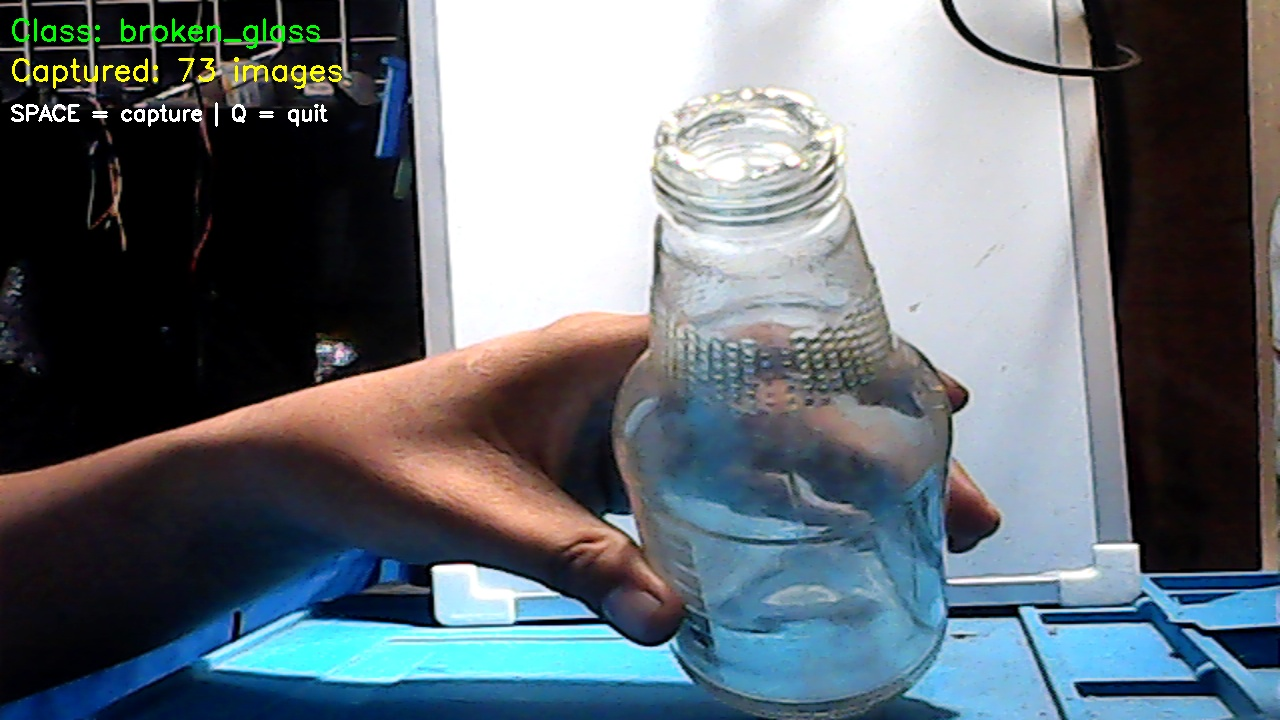broken_glass: (688, 103, 921, 329)
